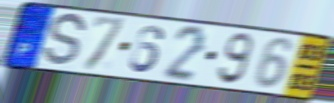2: (161, 23, 212, 83)
6: (250, 35, 296, 92), (129, 25, 165, 75)
7: (84, 14, 129, 74)
9: (216, 31, 256, 88)
S: (40, 12, 88, 70)
